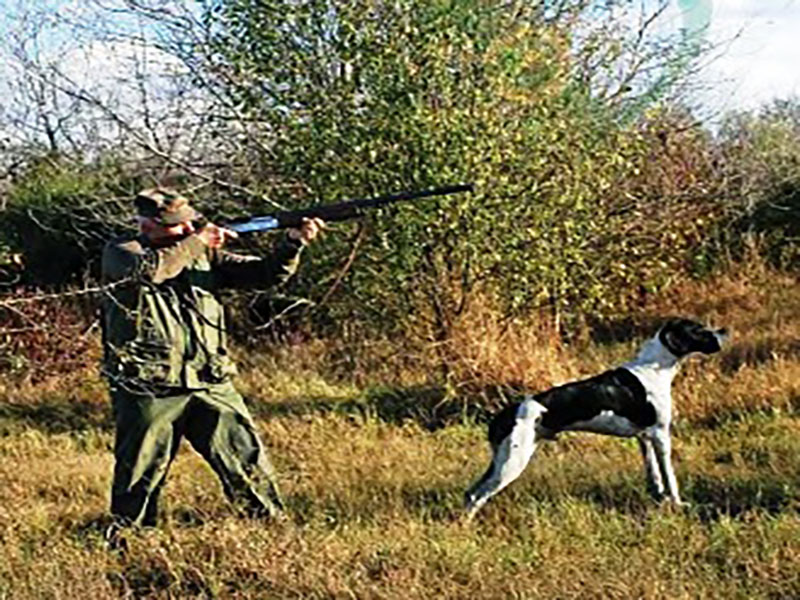cacciatore: (97, 160, 346, 537)
cane: (449, 306, 741, 523)
fucile: (189, 180, 470, 243)
